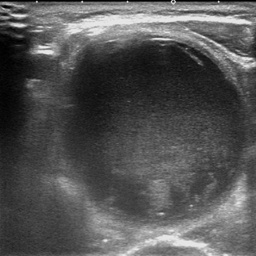mass: (66, 36, 243, 220)
